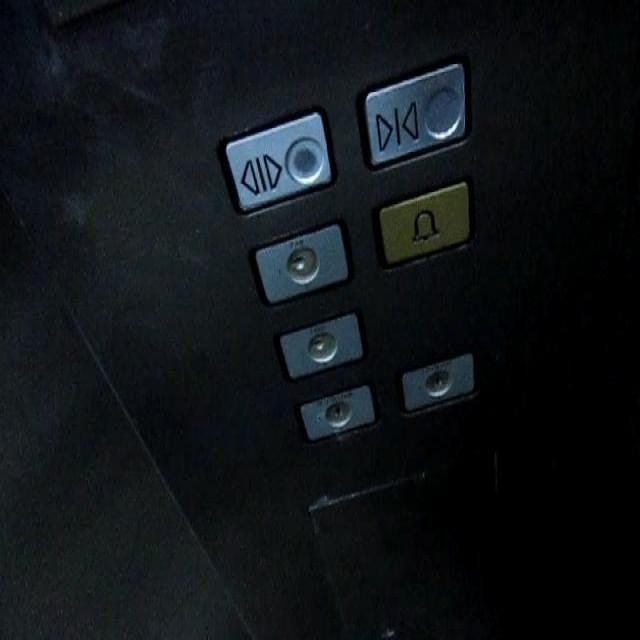alarm: (369, 174, 476, 274)
bt_keyhole: (245, 216, 356, 305), (272, 305, 370, 387), (397, 345, 481, 416), (292, 381, 381, 444)
close: (354, 49, 470, 171)
open: (214, 104, 338, 216)
